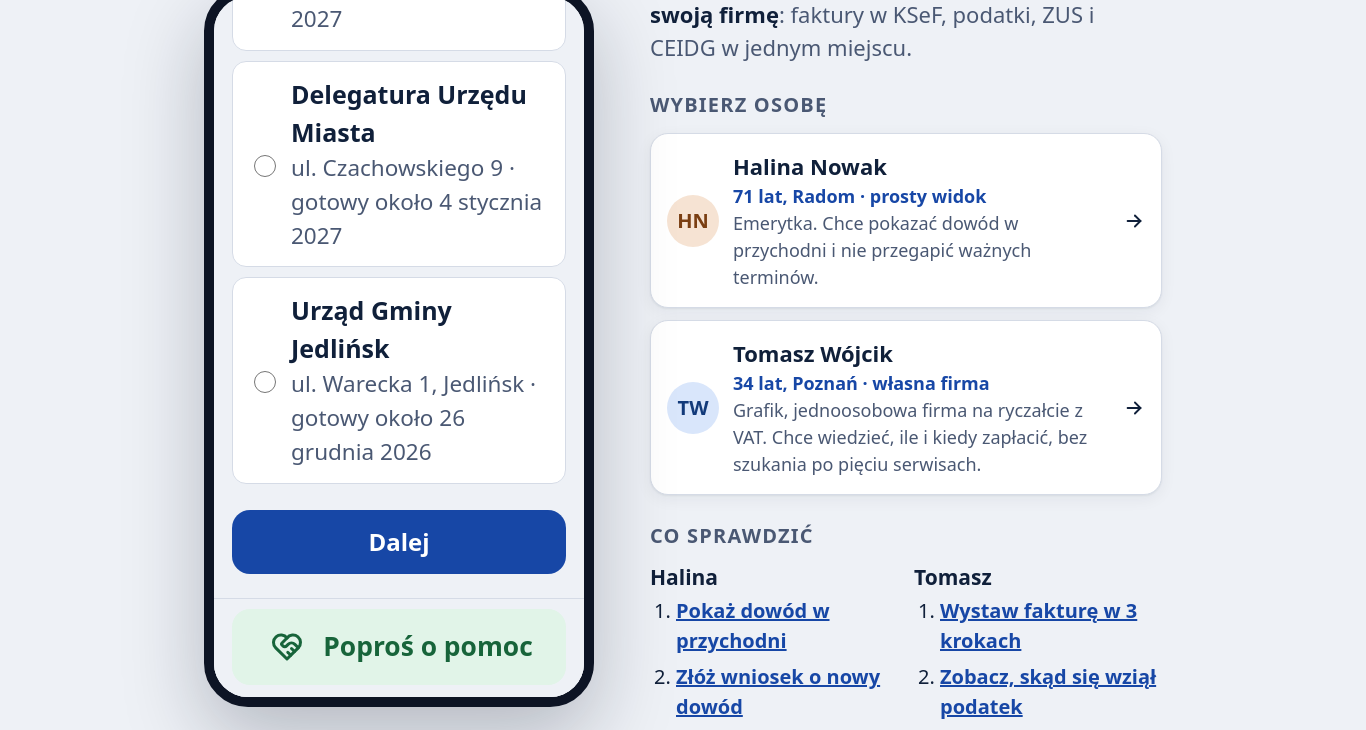
Scenario: bez wyboru urzędu nie przechodzi dalej
(page scrolled)
Click the button "Dalej". click: (399, 542)
box: [232,510,566,574]
(page scrolled)
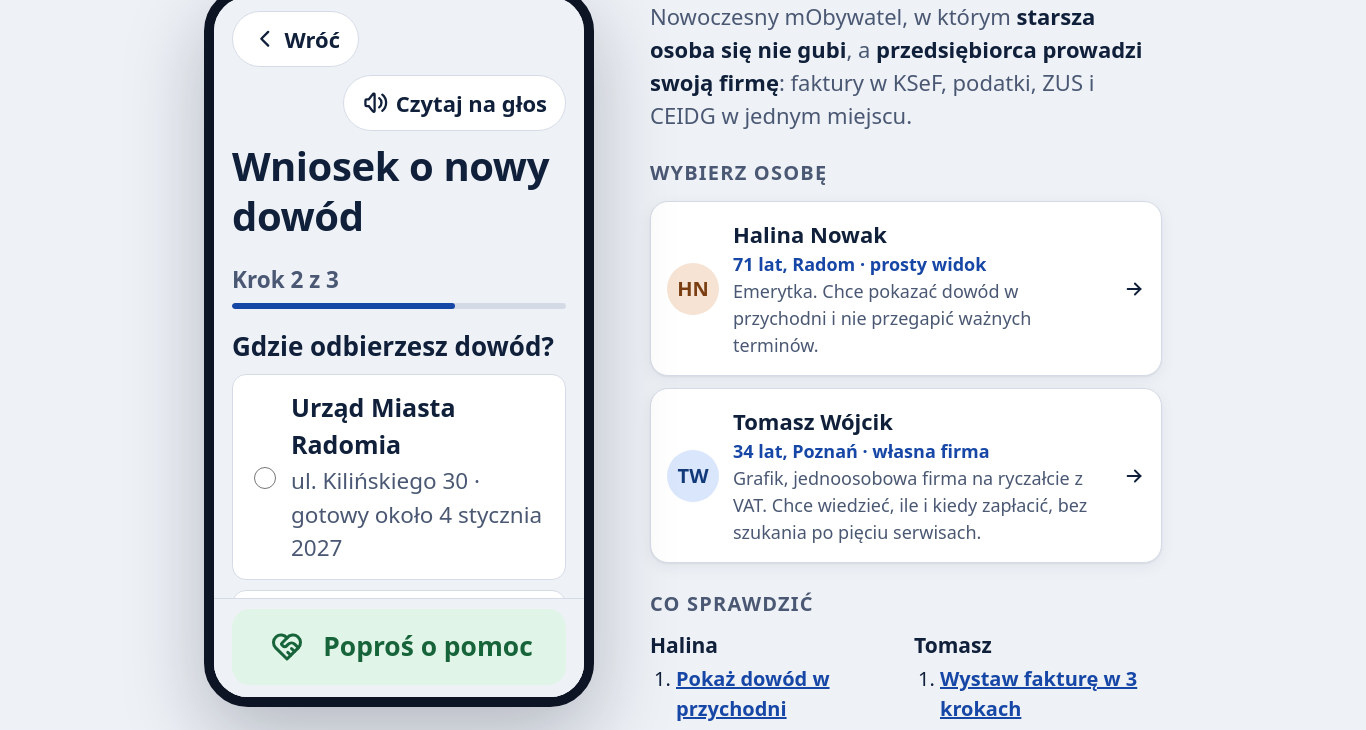
Expected: the text "Krok 2 z 3" is shown, [232,264,339,295]
